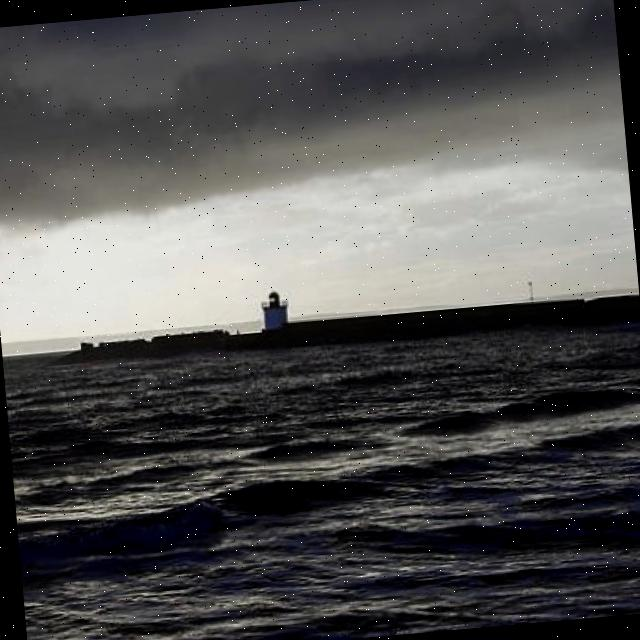Ns: (1, 1, 636, 307)
